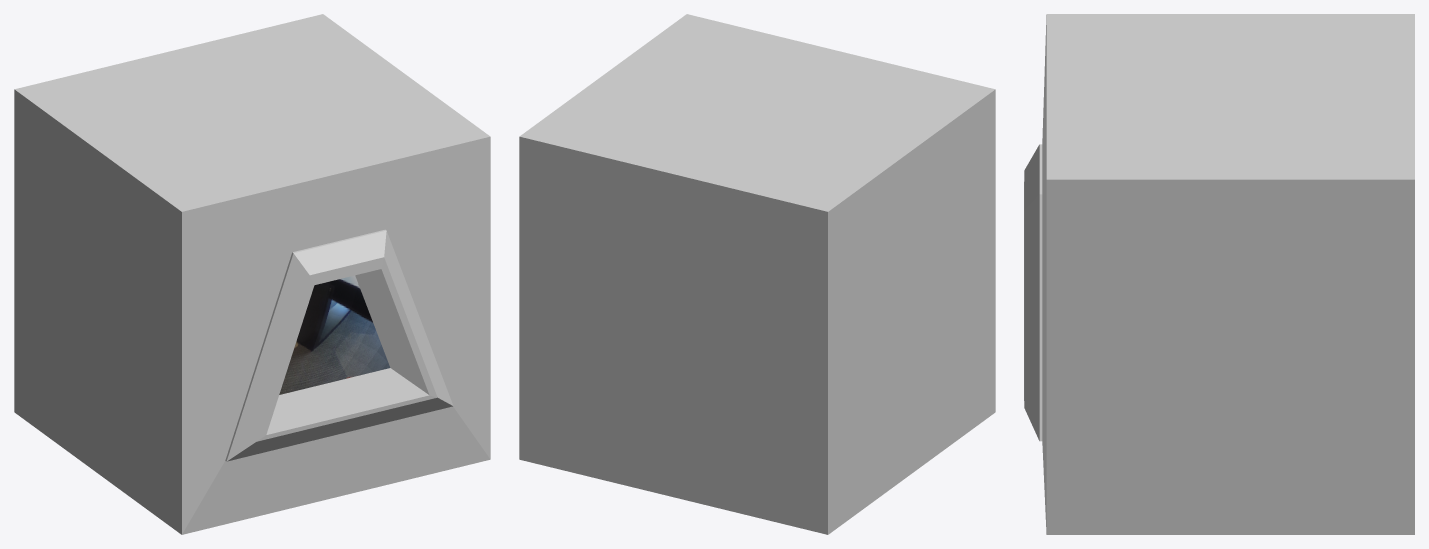
3 views of the same model, side by side, from view 1: azimuth 30°, elevation 25°; view 2: azimuth 150°, elevation 25°; view 3: azimuth 270°, elevation 25° (orthographic). The views are drawn at different scales.
Visible parts, largest first — view 1: Occlusion_Cube, Door, Globe; view 2: Occlusion_Cube; view 3: Occlusion_Cube, Door.
Part boxes in pixels (left/top/right/bottom): Occlusion_Cube: left=14, top=14, right=490, bottom=534; Door: left=225, top=229, right=453, bottom=461; Globe: left=279, top=275, right=390, bottom=394; Occlusion_Cube: left=519, top=14, right=995, bottom=534; Occlusion_Cube: left=1042, top=14, right=1414, bottom=534; Door: left=1024, top=144, right=1042, bottom=441.
Bounding box in the file's own units: 558 × 558 × 556.
1 material, 1 textured.
